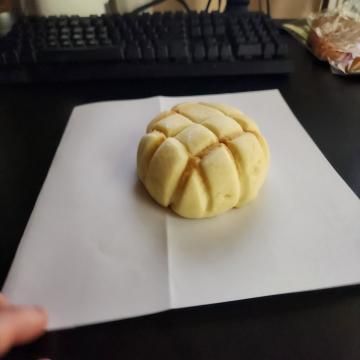melon_bread: (137, 102, 271, 220)
